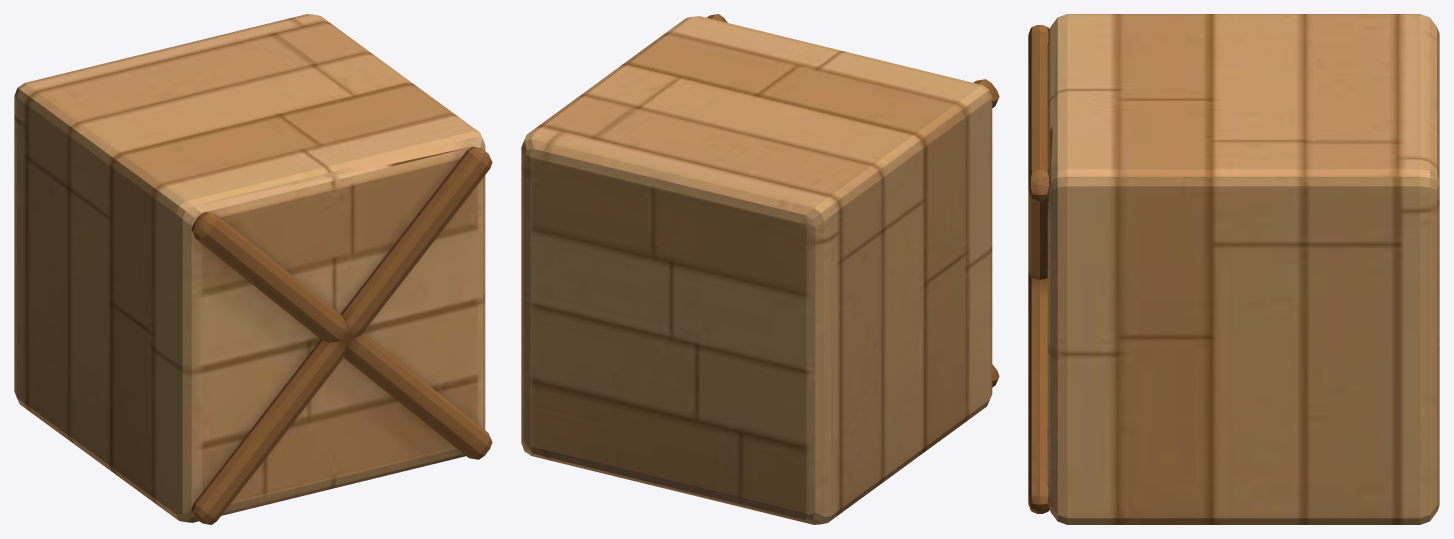
File: crate_1.glb
3 renders of one model, left to right at view 1: azimuth 30°, elevation 25°; view 2: azimuth 150°, elevation 25°; view 3: azimuth 270°, elevation 25°, orthographic. The views are drawn at different scales.
Visible parts, largest first — view 1: Mesh_0; view 2: Mesh_0; view 3: Mesh_0.
Part boxes in pixels (x1,y1,x2,y2): Mesh_0: (14, 14, 492, 524); Mesh_0: (521, 14, 999, 524); Mesh_0: (1028, 14, 1439, 524).
Bounding box in the file's own units: 1 × 1 × 1.05.
1 material, 1 textured.
